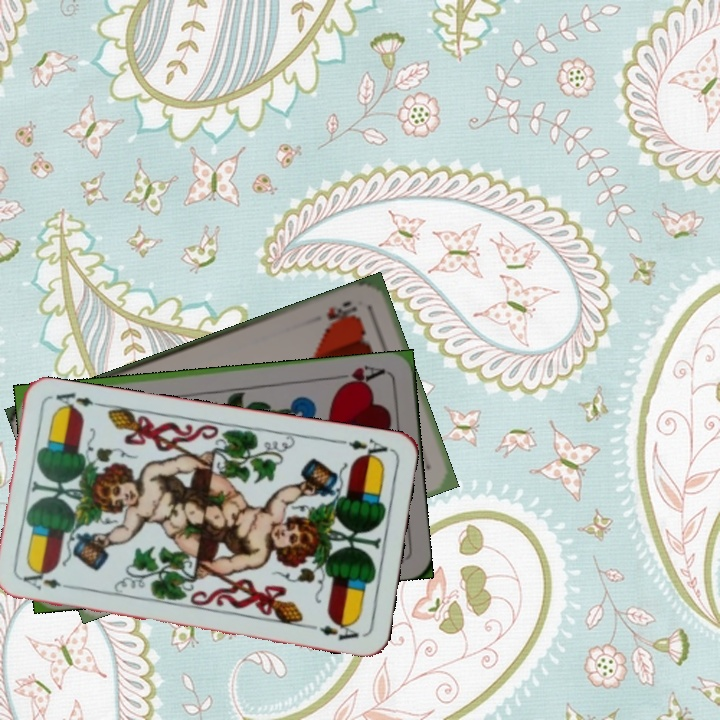EA: (333, 434, 390, 463), (19, 570, 78, 593)
HA: (329, 361, 388, 390)
HO: (322, 297, 360, 323)
